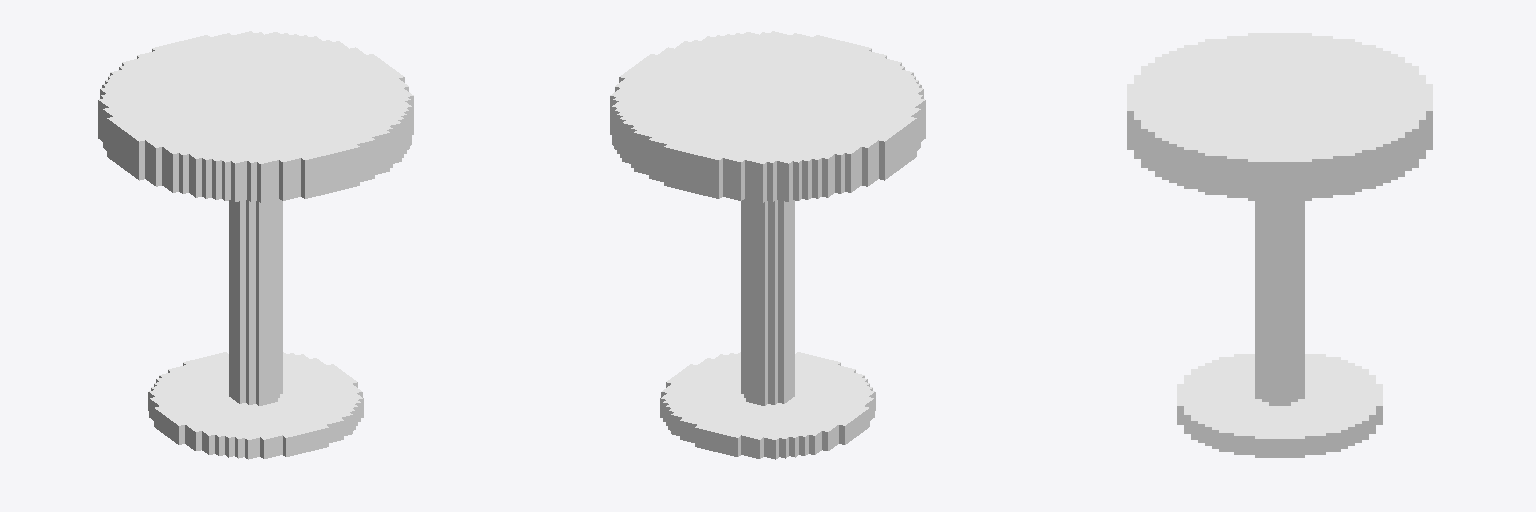
Rendered from Banquinho.obj.
The picture shows the model from 3 angles: view 1: azimuth 30°, elevation 25°; view 2: azimuth 150°, elevation 25°; view 3: azimuth 270°, elevation 25°; orthographic projection.
Parts seen in each view (by area): view 1: object 1; view 2: object 1; view 3: object 1.
Part boxes in pixels (left/top/right/bottom): object 1: left=98, top=31, right=413, bottom=459; object 1: left=610, top=31, right=925, bottom=459; object 1: left=1127, top=33, right=1432, bottom=457.
Size of the model in its own units: 4.3 by 4.9 by 4.3.